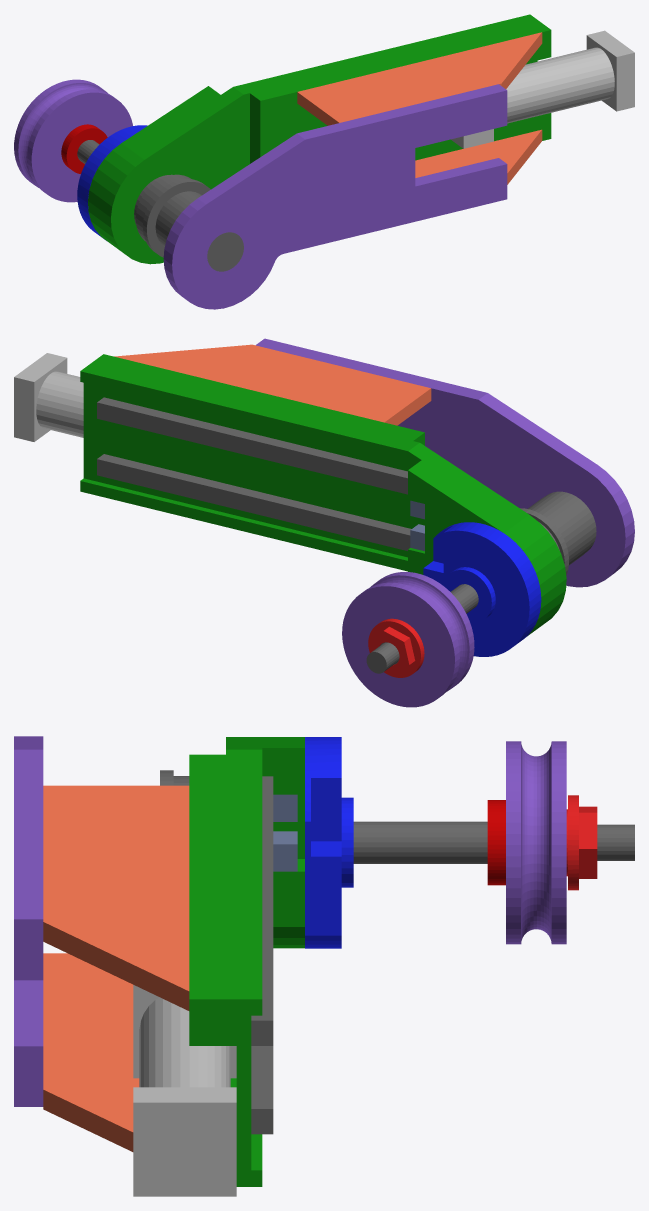
Rendered from mengene_alt2.glb.
3 views of the same model, one above another, from view 1: azimuth 30°, elevation 25°; view 2: azimuth 150°, elevation 25°; view 3: azimuth 270°, elevation 25° (orthographic). The views are drawn at different scales.
Parts seen in each view (by area): view 1: 02 - 04 - B\X\DCK\X\DCM ALT KOLU012, 02 - 05 - SOL YAN KAPAK002, 02 - 03 - B\X\DCK\X\DCM KOLU026, 02 - 03 - B\X\DCK\X\DCM KOLU027, 02 - 22 - MENGENE ARKA KAFA, 140 - 200 - AVARE MAKARA-FENR M\X2\0130\X0\L\X2\0130\X0\004, 02 - 03 - B\X\DCK\X\DCM KOLU028, 02 - 03 - B\X\DCK\X\DCM KOLU008, 02 - 03 - B\X\DCK\X\DCM KOLU029, 02 - 06 - SA\X2\011E\X0\ YAN KAPAK004, 02 - 04 - B\X\DCK\X\DCM ALT KOLU006, 02 - 37 - KALIP Y\X\DCKSELT\X2\0130\X0\C\X2\0130\X0\007 (+19 smaller); view 2: 02 - 03 - B\X\DCK\X\DCM KOLU022, 02 - 04 - B\X\DCK\X\DCM ALT KOLU003, 02 - 05 - SOL YAN KAPAK002, 140 - 200 - AVARE MAKARA-FENR M\X2\0130\X0\L\X2\0130\X0\, 02 - 03 - B\X\DCK\X\DCM KOLU027, 02 - 37 - KALIP Y\X\DCKSELT\X2\0130\X0\C\X2\0130\X0\003, THK 25 - RAY006, THK 25 - RAY013, 02 - 03 - B\X\DCK\X\DCM KOLU005, 02 - 03 - B\X\DCK\X\DCM KOLU006, 02 - 03 - B\X\DCK\X\DCM KOLU008, 02 - 03 - B\X\DCK\X\DCM KOLU029 (+20 smaller); view 3: 02 - 05 - SOL YAN KAPAK002, 02 - 03 - B\X\DCK\X\DCM KOLU027, 02 - 06 - SA\X2\011E\X0\ YAN KAPAK004, 02 - 22 - MENGENE ARKA KAFA011, 02 - 22 - MENGENE ARKA KAFA, 02 - 01- FENER MILI003, 140 - 200 - AVARE MAKARA-FENR M\X2\0130\X0\L\X2\0130\X0\002, 02 - 03 - B\X\DCK\X\DCM KOLU004, 02 - 04 - B\X\DCK\X\DCM ALT KOLU006, 02 - 03 - B\X\DCK\X\DCM KOLU010, 140 - 200 - AVARE MAKARA-FENR M\X2\0130\X0\L\X2\0130\X0\001, 02 - 37 - KALIP Y\X\DCKSELT\X2\0130\X0\C\X2\0130\X0\004 (+22 smaller).
Boxes of the visible parts, box(x1,y1,x2,y2) form: 02 - 04 - B\X\DCK\X\DCM ALT KOLU012: box(172, 90, 507, 309); 02 - 05 - SOL YAN KAPAK002: box(298, 32, 541, 122); 02 - 03 - B\X\DCK\X\DCM KOLU026: box(111, 93, 249, 264); 02 - 03 - B\X\DCK\X\DCM KOLU027: box(233, 14, 550, 100); 02 - 22 - MENGENE ARKA KAFA: box(506, 47, 614, 123); 140 - 200 - AVARE MAKARA-FENR M\X2\0130\X0\L\X2\0130\X0\004: box(31, 92, 132, 202); 02 - 03 - B\X\DCK\X\DCM KOLU028: box(260, 30, 551, 160); 02 - 03 - B\X\DCK\X\DCM KOLU008: box(122, 86, 243, 159); 02 - 03 - B\X\DCK\X\DCM KOLU029: box(88, 143, 143, 252); 02 - 06 - SA\X2\011E\X0\ YAN KAPAK004: box(415, 129, 541, 177); 02 - 04 - B\X\DCK\X\DCM ALT KOLU006: box(297, 84, 506, 139); 02 - 37 - KALIP Y\X\DCKSELT\X2\0130\X0\C\X2\0130\X0\007: box(77, 125, 147, 237); 02 - 03 - B\X\DCK\X\DCM KOLU022: box(83, 383, 418, 557); 02 - 04 - B\X\DCK\X\DCM ALT KOLU003: box(397, 388, 625, 587); 02 - 05 - SOL YAN KAPAK002: box(114, 344, 430, 422); 140 - 200 - AVARE MAKARA-FENR M\X2\0130\X0\L\X2\0130\X0\: box(342, 586, 454, 707); 02 - 03 - B\X\DCK\X\DCM KOLU027: box(80, 354, 424, 450); 02 - 37 - KALIP Y\X\DCKSELT\X2\0130\X0\C\X2\0130\X0\003: box(423, 530, 529, 656); THK 25 - RAY006: box(97, 459, 410, 550); THK 25 - RAY013: box(97, 402, 407, 494); 02 - 03 - B\X\DCK\X\DCM KOLU005: box(80, 371, 421, 463); 02 - 03 - B\X\DCK\X\DCM KOLU006: box(80, 481, 407, 571); 02 - 03 - B\X\DCK\X\DCM KOLU008: box(408, 443, 528, 532); 02 - 03 - B\X\DCK\X\DCM KOLU029: box(504, 515, 566, 636); 02 - 05 - SOL YAN KAPAK002: box(43, 785, 189, 990); 02 - 03 - B\X\DCK\X\DCM KOLU027: box(189, 749, 262, 999); 02 - 06 - SA\X2\011E\X0\ YAN KAPAK004: box(43, 953, 139, 1131); 02 - 22 - MENGENE ARKA KAFA011: box(133, 1102, 236, 1196); 02 - 22 - MENGENE ARKA KAFA: box(139, 997, 230, 1087); 02 - 01- FENER MILI003: box(353, 821, 487, 863); 140 - 200 - AVARE MAKARA-FENR M\X2\0130\X0\L\X2\0130\X0\002: box(521, 741, 551, 943); 02 - 03 - B\X\DCK\X\DCM KOLU004: box(189, 999, 262, 1186); 02 - 04 - B\X\DCK\X\DCM ALT KOLU006: box(14, 749, 43, 919); 02 - 03 - B\X\DCK\X\DCM KOLU010: box(262, 748, 304, 926); 140 - 200 - AVARE MAKARA-FENR M\X2\0130\X0\L\X2\0130\X0\001: box(551, 741, 566, 944); 02 - 37 - KALIP Y\X\DCKSELT\X2\0130\X0\C\X2\0130\X0\004: box(305, 821, 341, 935).
Size of the model in its own units: 0.8125 by 0.2325 by 0.51.
